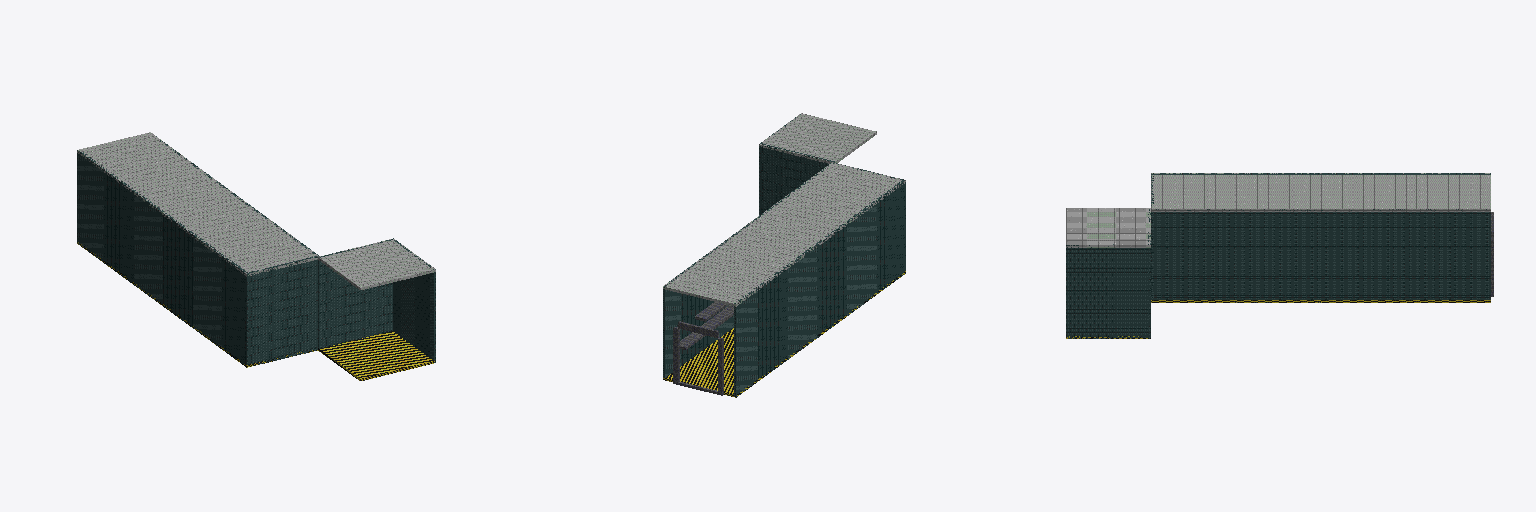
The picture shows the model from 3 angles: view 1: azimuth 30°, elevation 25°; view 2: azimuth 150°, elevation 25°; view 3: azimuth 270°, elevation 25°; orthographic projection.
Parts seen in each view (by area): view 1: Wall_L, Ceiling, Wall_BackHint, Wall_Turn_Back, Ceiling_Turn, Floor_Turn, Wall_Turn_End; view 2: Wall_L, Ceiling, Ceiling_Turn, Wall_R, Wall_Turn_Back, Floor, Pipe_1; view 3: Wall_R, Ceiling, Wall_Turn_End, Ceiling_Turn, Floor, Wall_L.
Boxes of the visible parts, box(x1,y1,x2,y2) form: Wall_L: box(77, 150, 248, 364); Ceiling: box(77, 132, 319, 276); Wall_BackHint: box(245, 255, 318, 367); Wall_Turn_Back: box(318, 239, 392, 348); Ceiling_Turn: box(318, 239, 435, 289); Floor_Turn: box(318, 331, 434, 380); Wall_Turn_End: box(392, 238, 435, 362); Wall_L: box(734, 179, 905, 396); Ceiling: box(663, 162, 905, 306); Ceiling_Turn: box(759, 113, 876, 163); Wall_R: box(663, 163, 830, 377); Wall_Turn_Back: box(759, 143, 834, 213); Floor: box(663, 271, 905, 397); Pipe_1: box(680, 305, 733, 349); Wall_R: box(1151, 209, 1490, 302); Ceiling: box(1151, 173, 1490, 211); Wall_Turn_End: box(1066, 244, 1150, 338); Ceiling_Turn: box(1066, 208, 1150, 247); Floor: box(1151, 300, 1490, 302); Wall_L: box(1151, 173, 1490, 174).
Bounding box in the file's own units: 6 × 3.65 × 15.1.
4 materials, 4 textured.